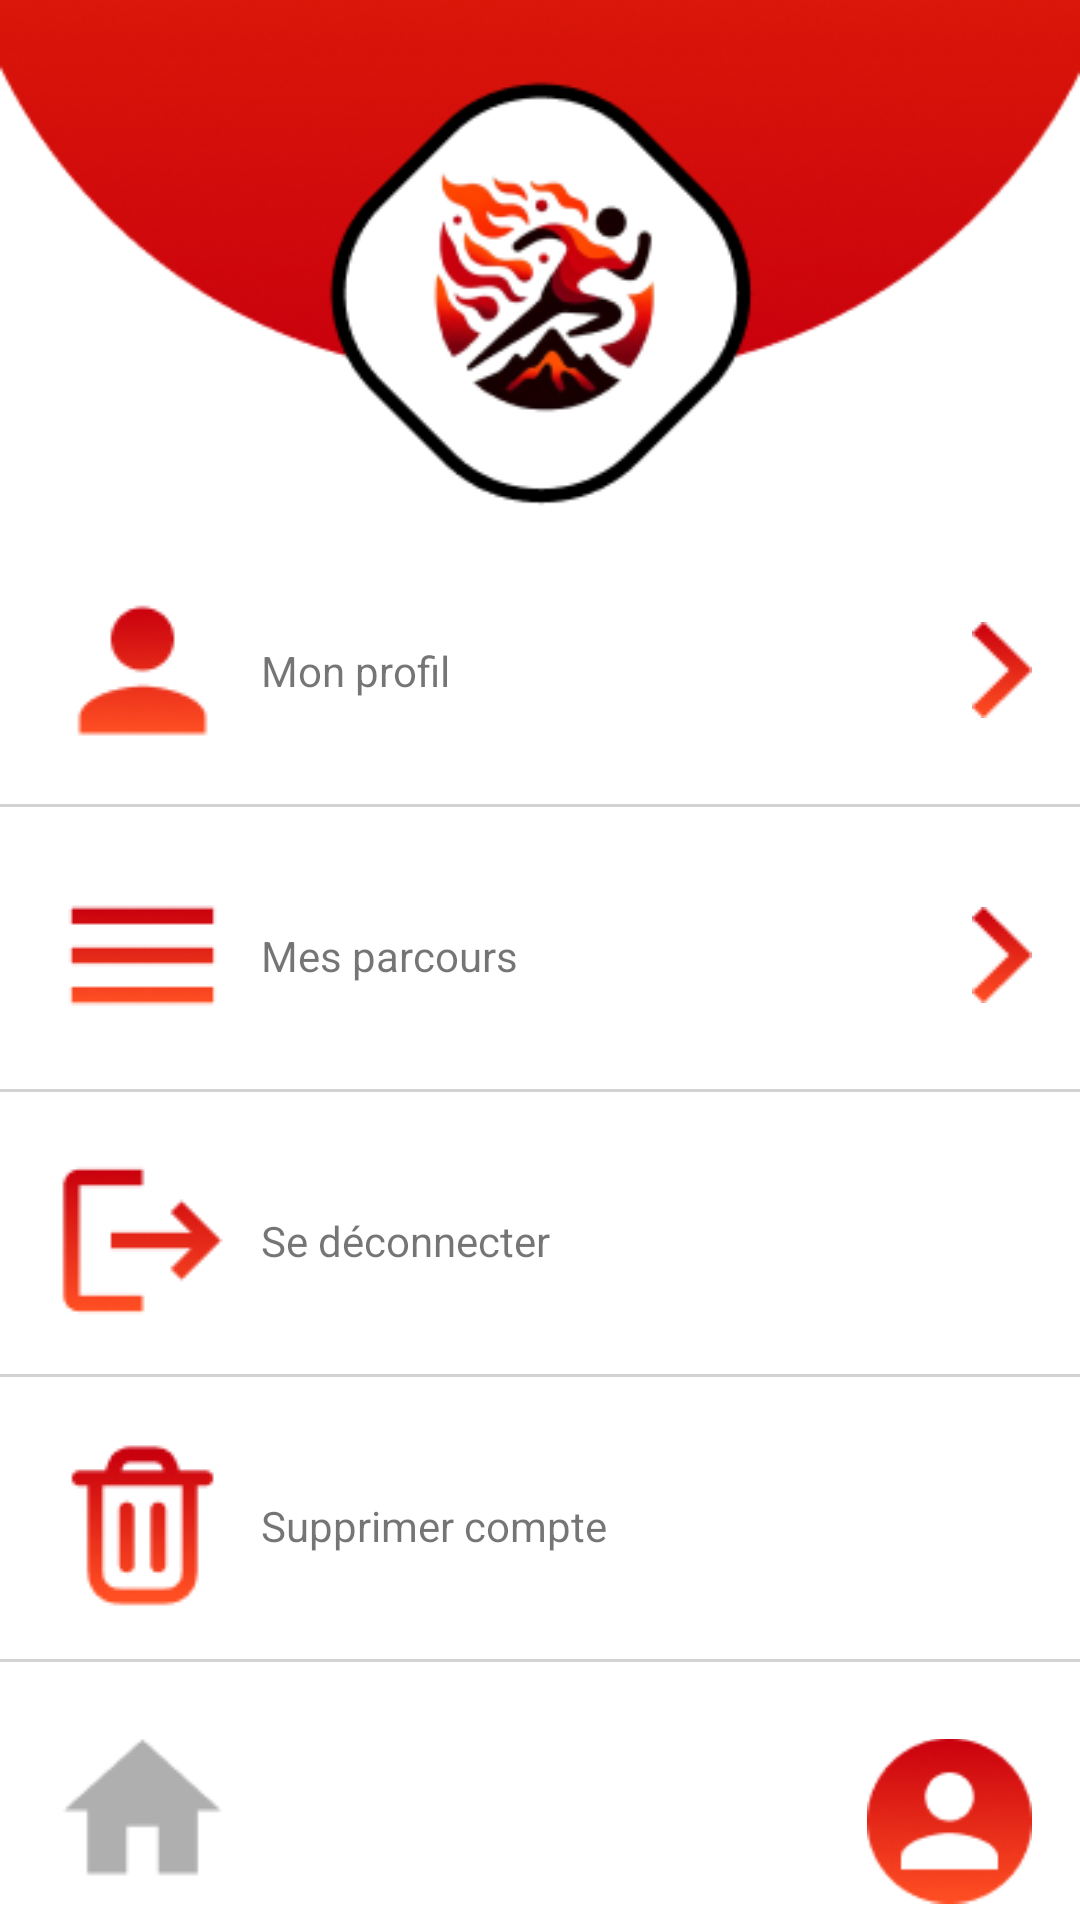

Icon bounding boxes for this 1080 × 1920 phone screenshot, format (x1, y1, x2, y2):
home: (66, 1740, 219, 1875)
